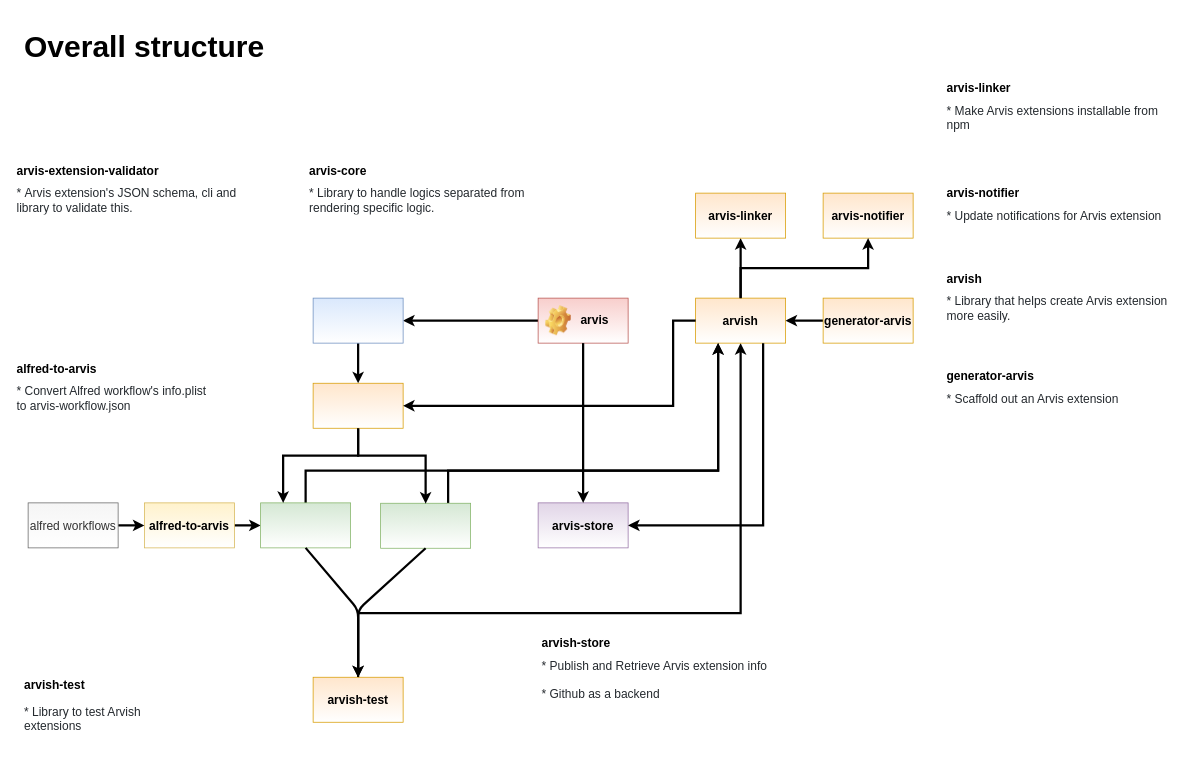
Image size: 1196x780. Some labels were removed from this diagram. Each missing label, with the box of its shape:
arvis plugin: (380, 502, 471, 548)
arvis workflow: (260, 502, 351, 548)
arvis-core: (312, 297, 403, 343)
arvis-extension-validator: (312, 382, 403, 428)
